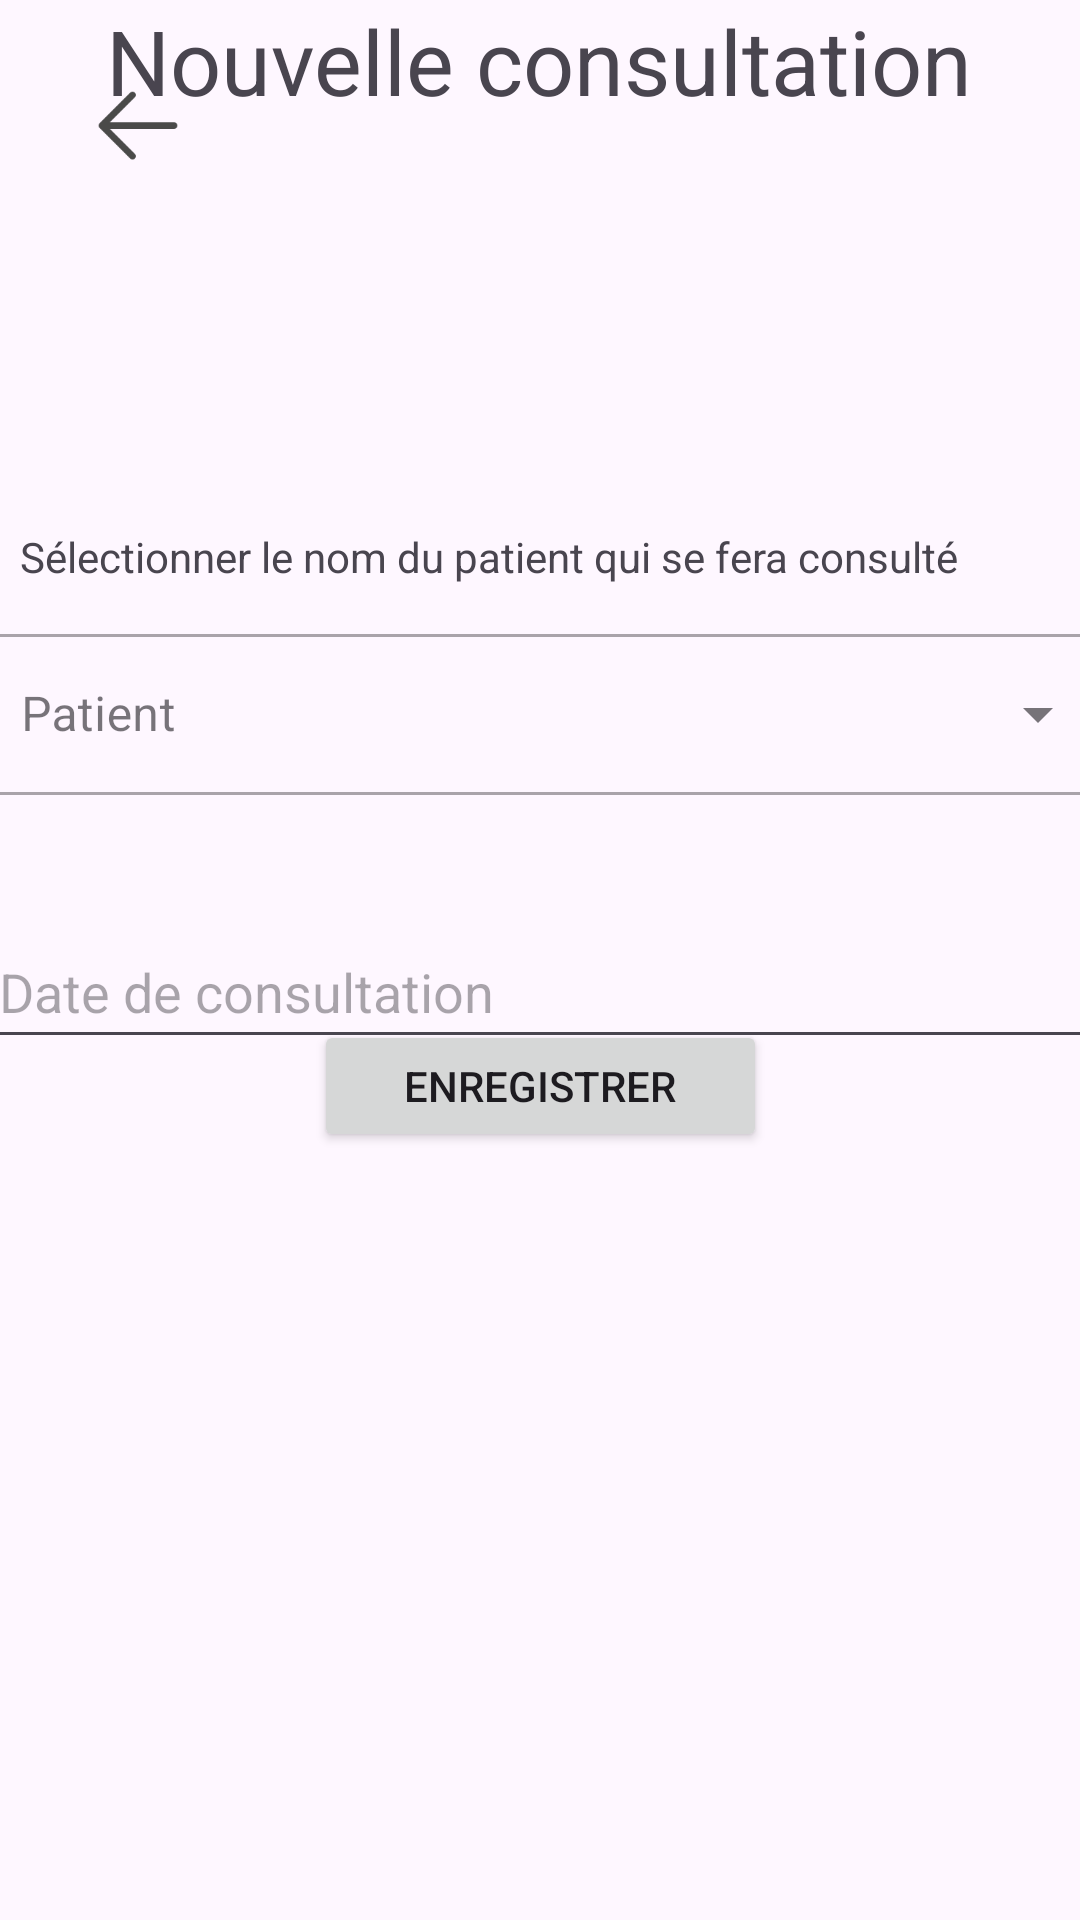

Named icons in this screenshot (1080 x 1920) and their centers, point (x, y):
left: point (138, 125)
